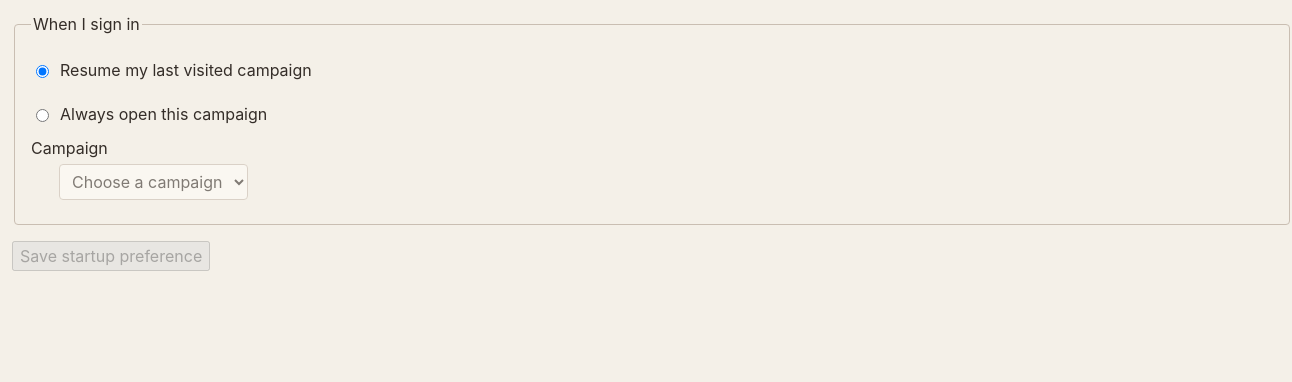
Test: CampaignStartupForm failures › drops a campaign the server reports unavailable and explains why
The image size is (1292, 382).
Click the radio button labelled "Always open this campaign" at (42, 116), box top-left (36, 109), bottom-right (49, 122)
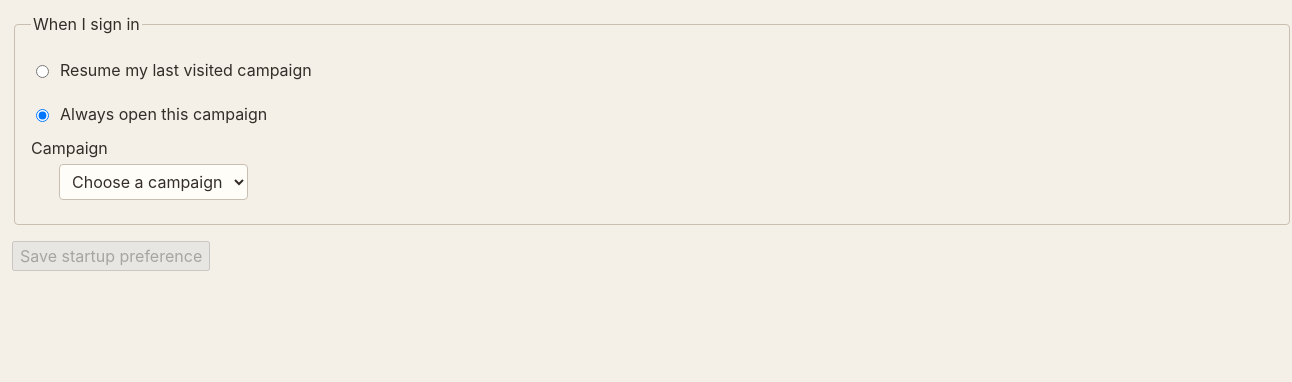
Select "Beta Campaign" in the dropdown labelled "Campaign" at (154, 182), box top-left (59, 164), bottom-right (248, 200)
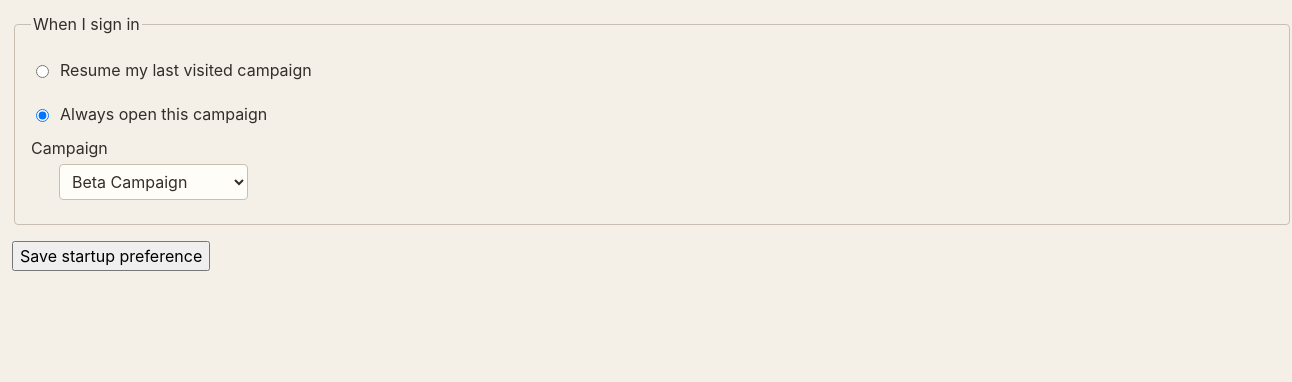
Click the button "Save startup preference" at (111, 256), box top-left (12, 241), bottom-right (210, 271)
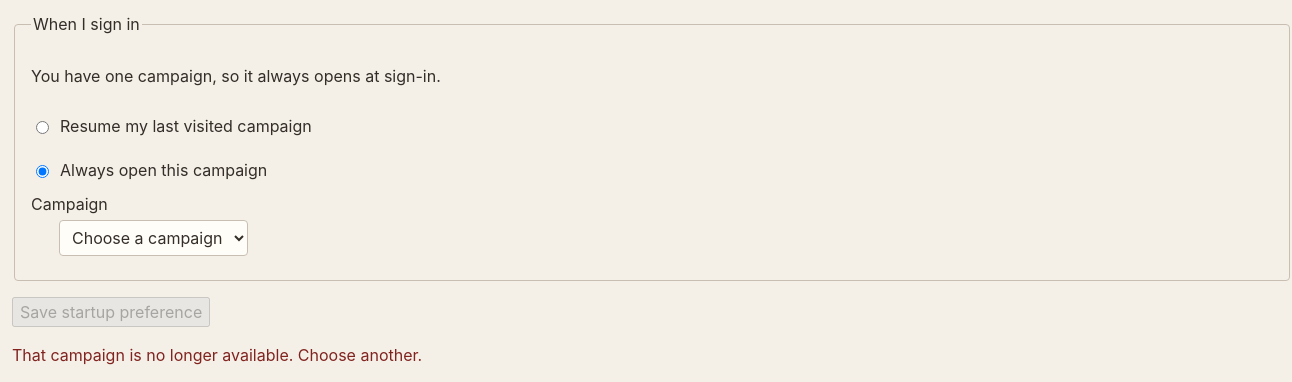
Check: the message shows "That campaign is no longer available.", box top-left (12, 345), bottom-right (422, 365)
